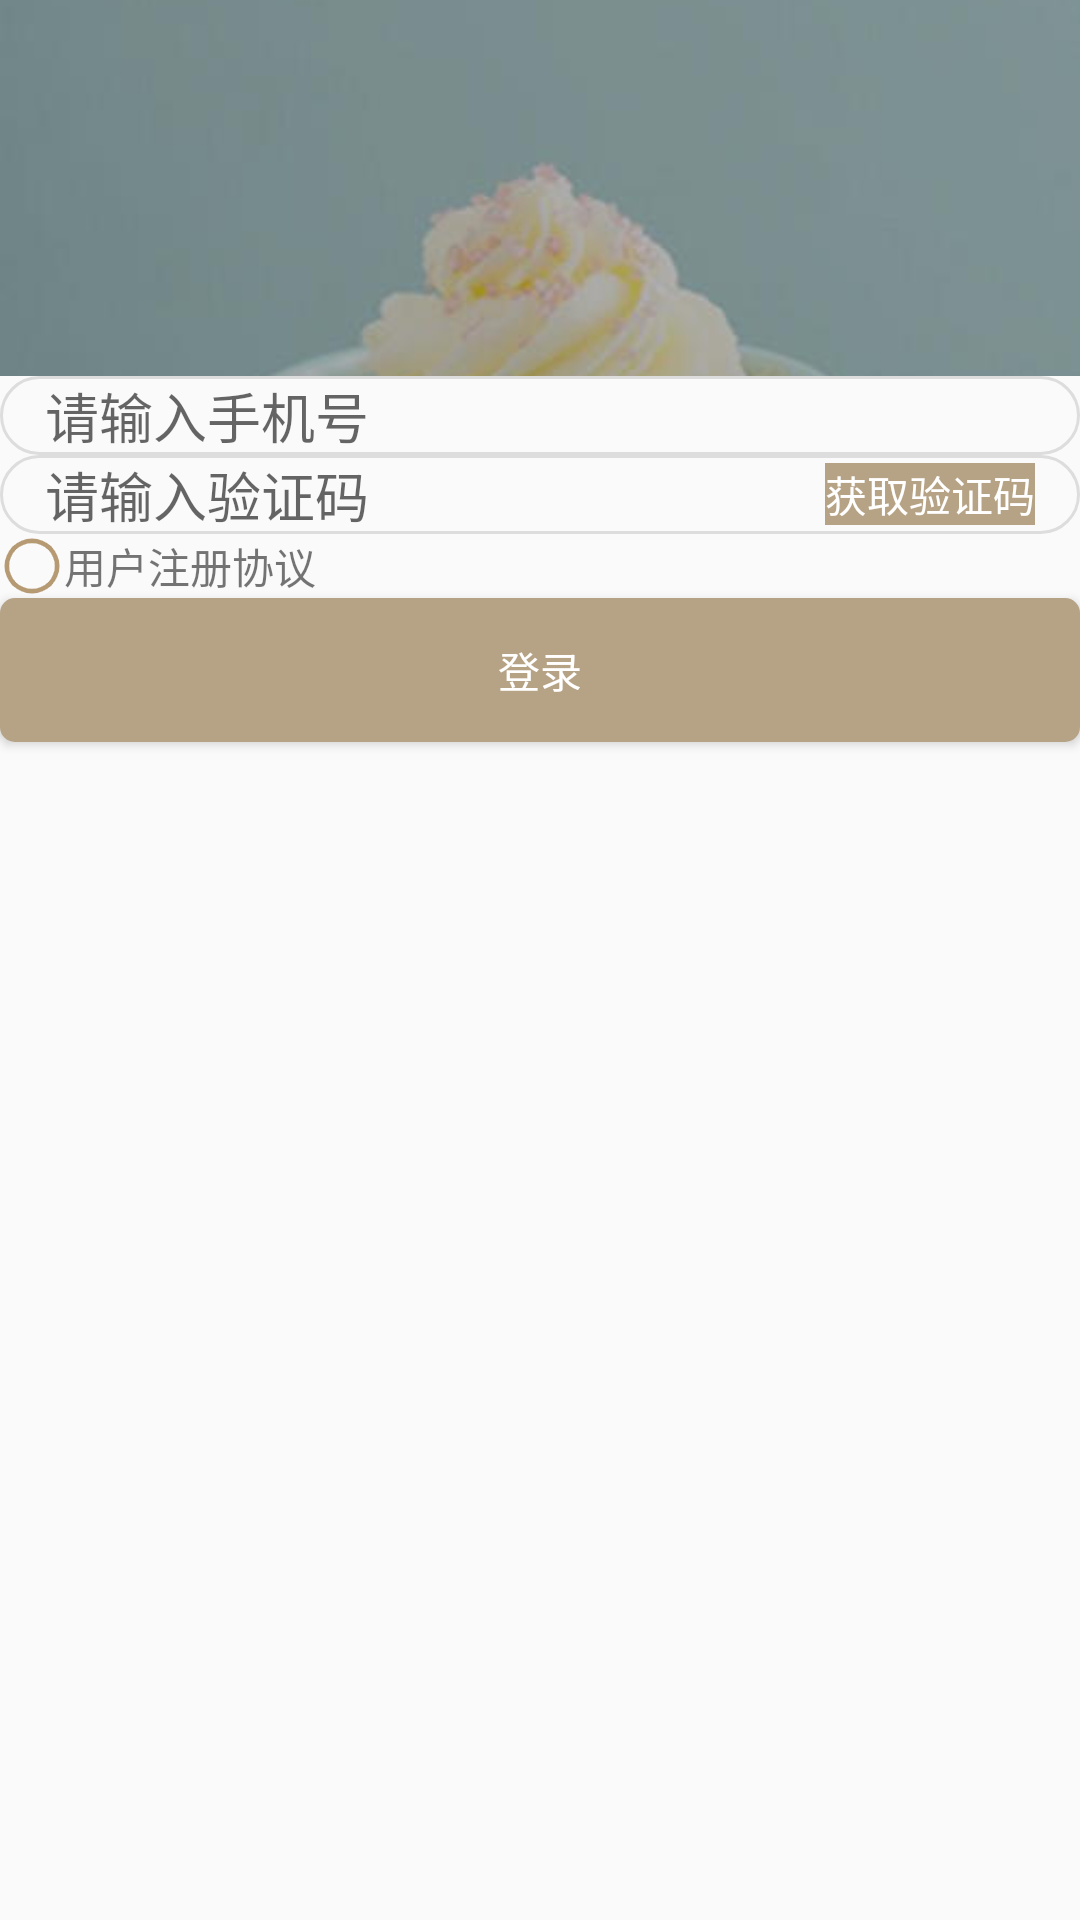

Locate icon controls on the screen. Image size 1080×1920, boxes as (x1, y1, x2, y2).
select no: (4, 538, 60, 594)
